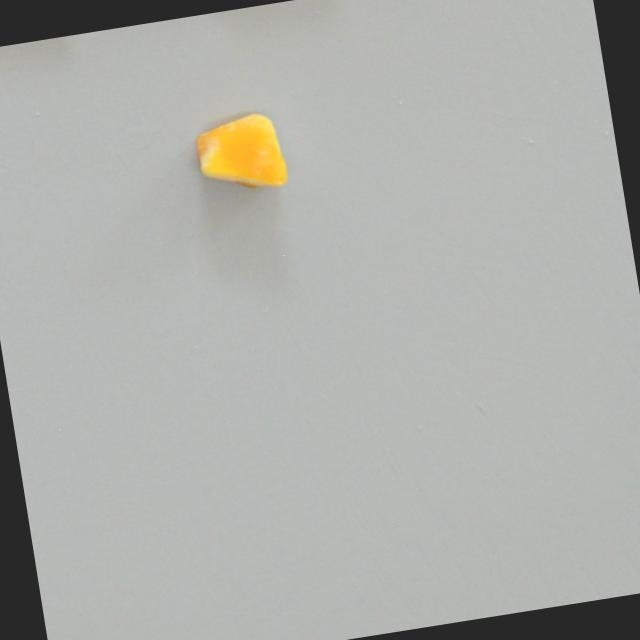dañado: (185, 102, 298, 207)
